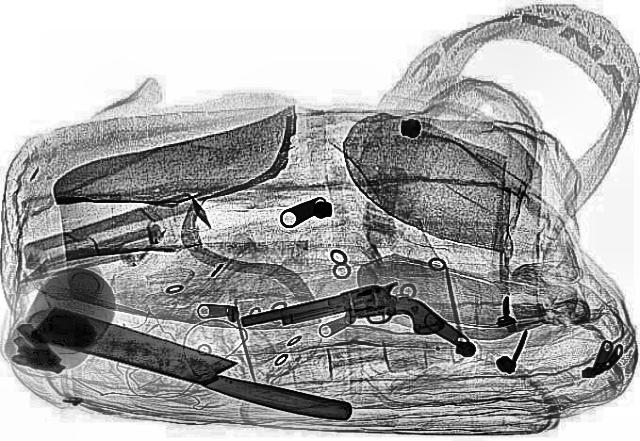Gun: (236, 278, 414, 350), (278, 287, 448, 359)
Knife: (22, 305, 366, 425)
